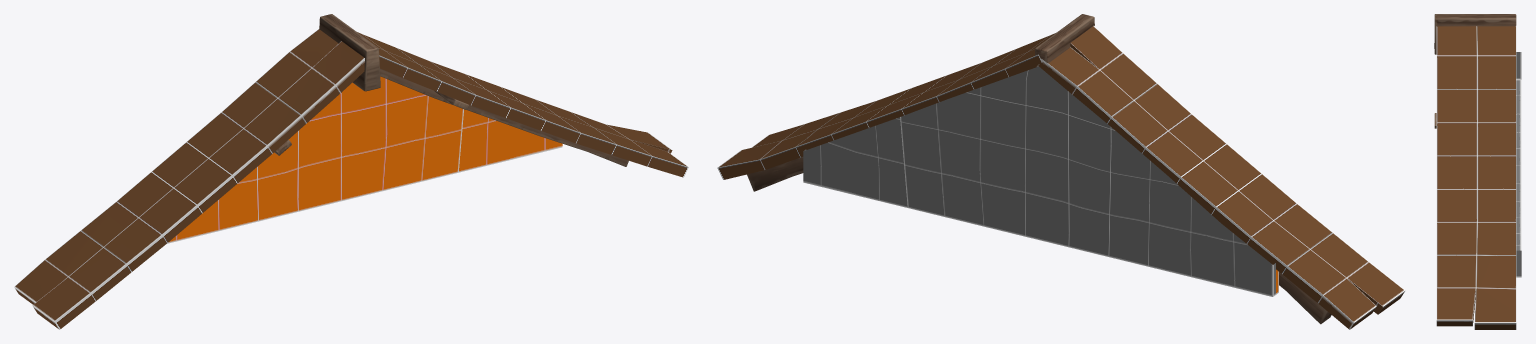
Rendered from Hangar01RE_1.FBX.
The picture shows the model from 3 angles, left to right: view 1: azimuth 30°, elevation 25°; view 2: azimuth 150°, elevation 25°; view 3: azimuth 270°, elevation 25°; orthographic projection. The views are drawn at different scales.
Visible parts, largest first — view 1: Hangar01RE_1; view 2: Hangar01RE_1; view 3: Hangar01RE_1.
Boxes of the visible parts, x1,y1,x2,y2 form: Hangar01RE_1: (14,14,688,329); Hangar01RE_1: (717,14,1405,329); Hangar01RE_1: (1434,14,1521,329).
Size of what is drawn, in the model's own units: 6.16 by 1.97 by 0.8366.
